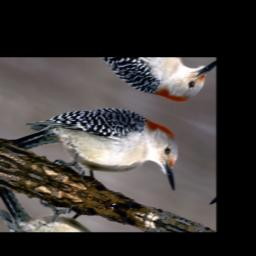Woodpecker: (14, 77, 195, 212)
